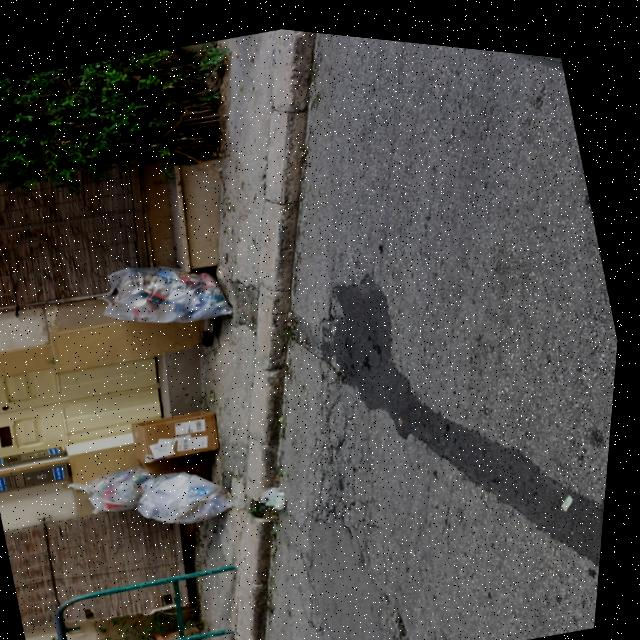Other: (129, 393, 235, 468), (142, 438, 227, 491), (262, 472, 302, 510)
Recycled Waste -Grey or Green Bag-: (92, 234, 246, 347), (137, 447, 255, 538), (70, 456, 171, 526)
